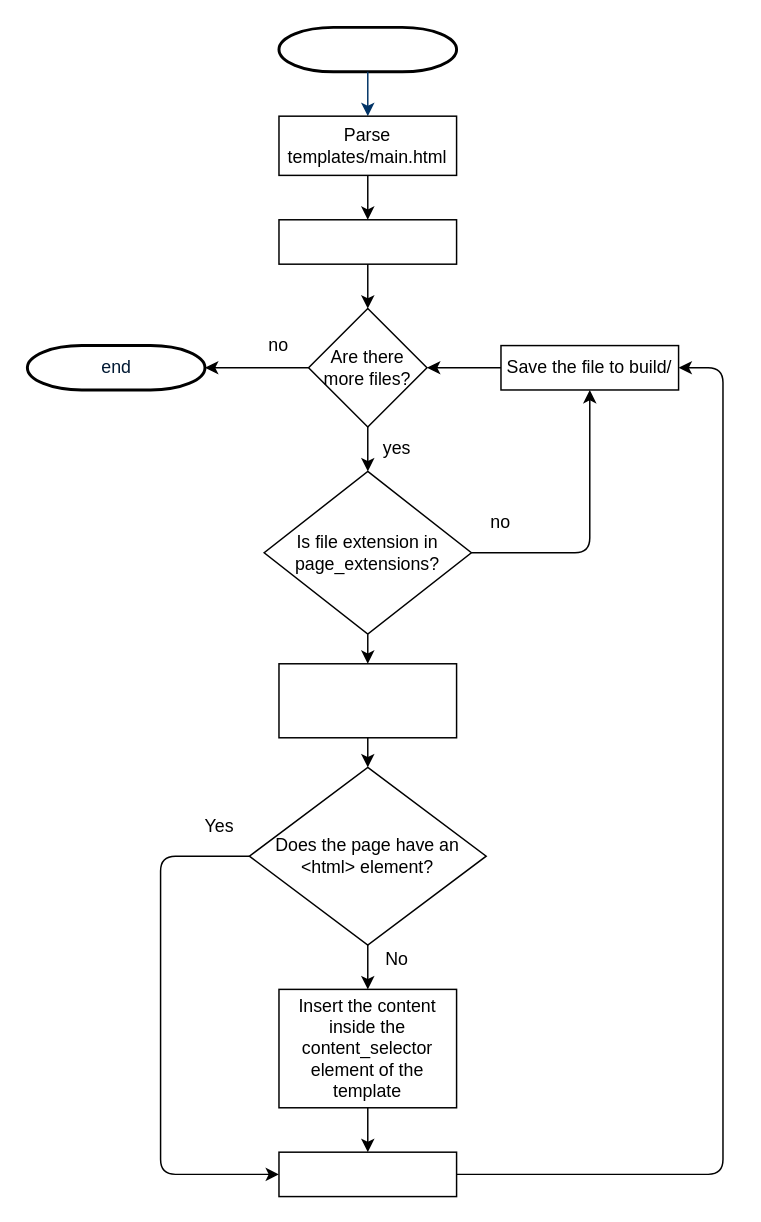
The diagram is 761 pixels wide and 1222 high, and some of its shapes have lost their labels. Each missing label, with the box of its shape:
List all files in site/: (278, 218, 457, 264)
Preprocess and parse the page content: (278, 662, 457, 738)
Run widgets: (278, 1151, 457, 1197)
start: (277, 25, 457, 73)
